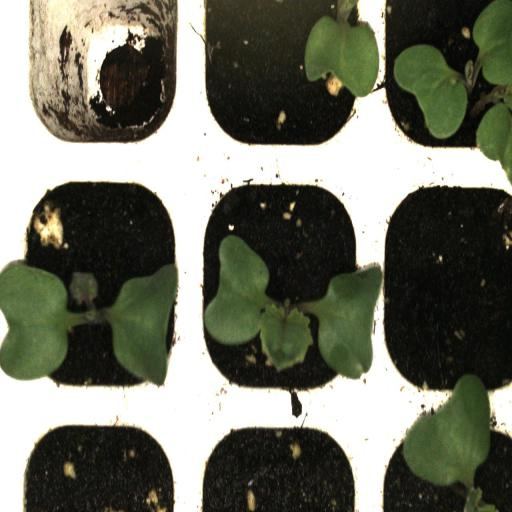Folha: (401, 374, 498, 512), (472, 0, 512, 181), (303, 15, 379, 97)
Germinacao: (0, 165, 188, 408), (190, 162, 370, 414), (8, 1, 193, 159), (374, 1, 512, 171)
